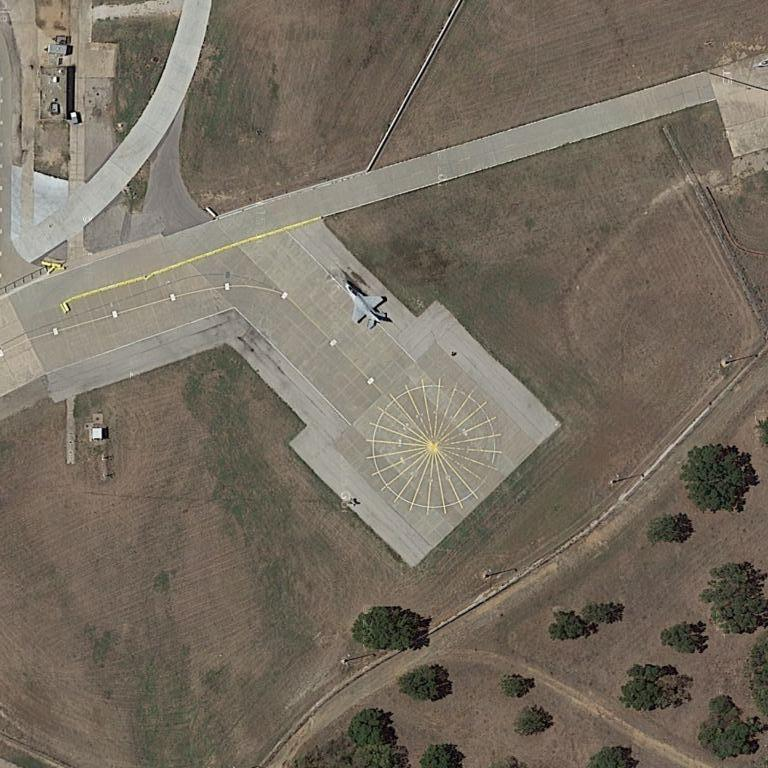F-16: (343, 278, 389, 334)
